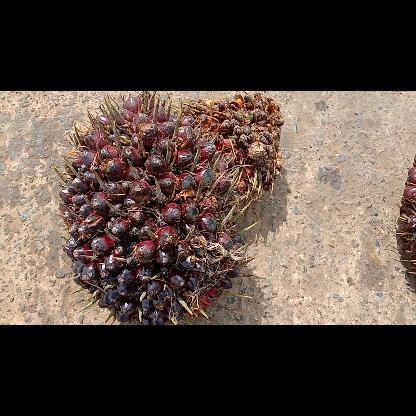Kurang masak: (56, 90, 256, 324)
TBS abnormal: (182, 91, 282, 193)
